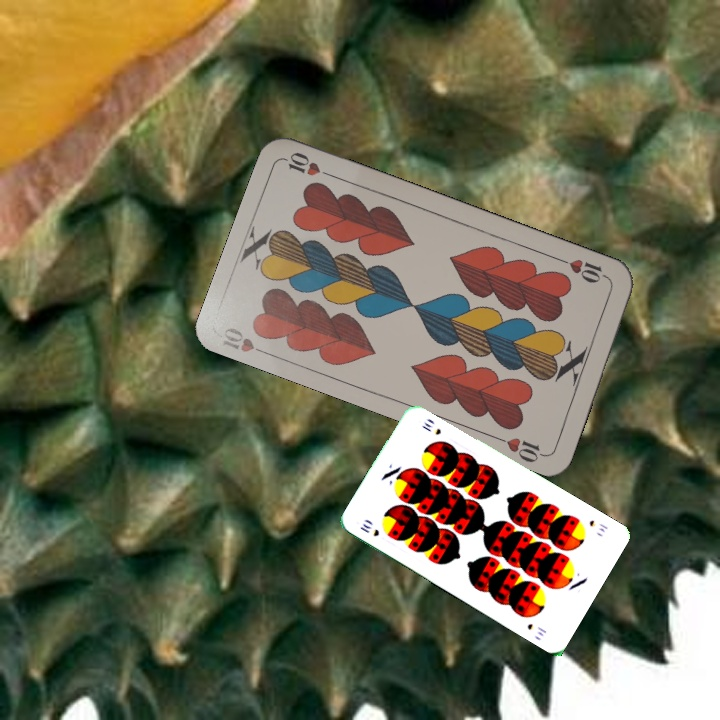H10: (218, 323, 274, 361), (555, 254, 612, 286)
S10: (356, 519, 382, 539), (585, 516, 611, 535)
